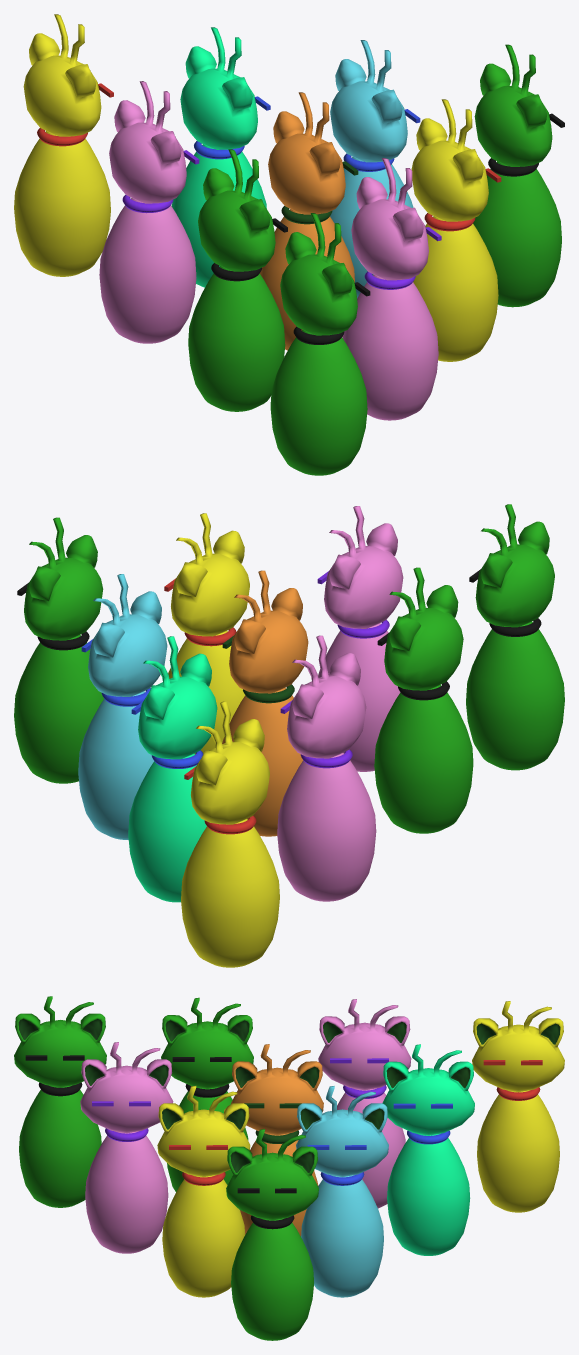
The model's file is alien-cat-pins.glb.
The picture shows the model from 3 angles, top to bottom: view 1: azimuth 30°, elevation 25°; view 2: azimuth 150°, elevation 25°; view 3: azimuth 270°, elevation 25°; orthographic projection. The views are drawn at different scales.
Visible parts, largest first — view 1: green alien cat.001, pink alien cat.001, yellow alien cat.001, green alien cat.002, pink alien cat, green alien cat, yellow alien cat, Cyan alien cat, orange alien cat, blue alien cat; view 2: green alien cat.002, green alien cat.001, pink alien cat.001, yellow alien cat.001, green alien cat, Cyan alien cat, blue alien cat, pink alien cat, orange alien cat, yellow alien cat; view 3: yellow alien cat.001, green alien cat, Cyan alien cat, pink alien cat, blue alien cat, yellow alien cat, green alien cat.001, pink alien cat.001, green alien cat.002, orange alien cat.
Boxes of the visible parts, x1,y1,x2,y2 form: green alien cat.001: (270, 213, 370, 475); pink alien cat.001: (99, 81, 199, 343); yellow alien cat.001: (14, 14, 113, 276); green alien cat.002: (188, 149, 287, 411); pink alien cat: (342, 158, 441, 420); green alien cat: (473, 44, 564, 307); yellow alien cat: (411, 99, 501, 361); Cyan alien cat: (171, 27, 270, 287); orange alien cat: (259, 92, 358, 350); blue alien cat: (330, 40, 420, 298); green alien cat.002: (374, 567, 473, 833); green alien cat.001: (466, 504, 564, 770); pink alien cat.001: (277, 635, 376, 901); yellow alien cat.001: (181, 701, 279, 967); green alien cat: (14, 517, 104, 783); Cyan alien cat: (128, 636, 217, 902); blue alien cat: (78, 574, 167, 839); pink alien cat: (317, 506, 403, 771); orange alien cat: (222, 570, 308, 836); yellow alien cat: (164, 513, 249, 754); yellow alien cat.001: (472, 1001, 564, 1212); green alien cat: (226, 1129, 318, 1340); Cyan alien cat: (382, 1044, 474, 1255); pink alien cat: (80, 1042, 173, 1253); blue alien cat: (296, 1086, 388, 1297); yellow alien cat: (157, 1086, 250, 1297); green alien cat.001: (14, 996, 106, 1207); pink alien cat.001: (318, 999, 411, 1208); green alien cat.002: (161, 997, 253, 1192); orange alien cat: (231, 1044, 323, 1236).
Size of the model in its own units: 11.2 by 6.61 by 15.51.
